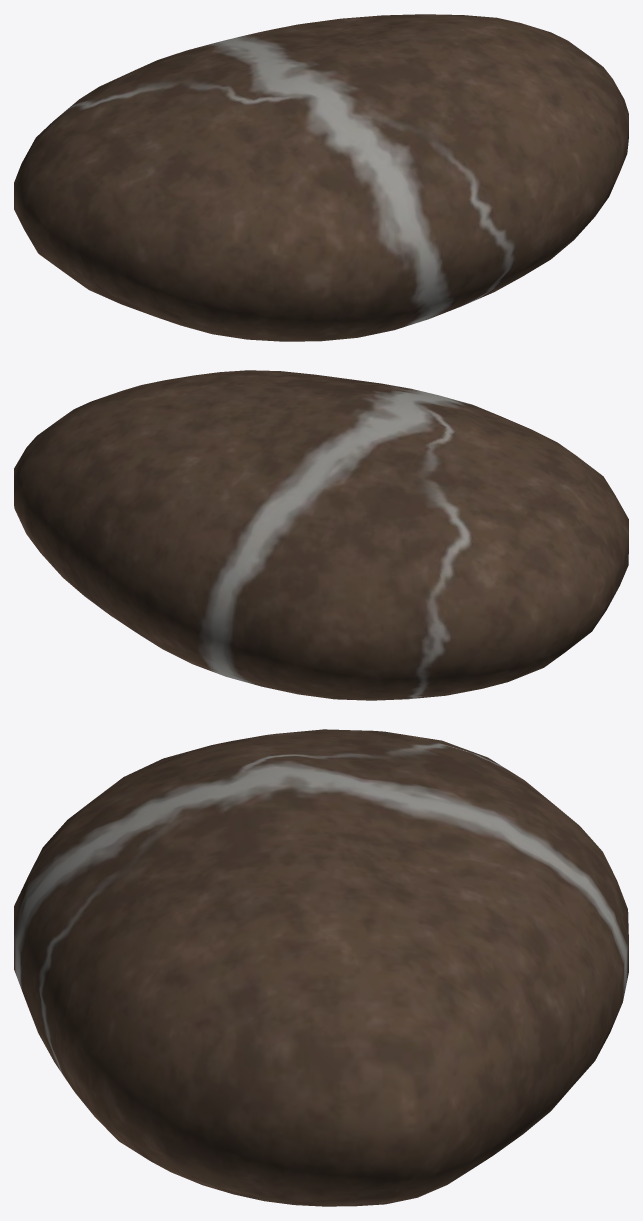
The model's file is quartz_cobble_02.glb.
3 views of the same model, one above another, from view 1: azimuth 30°, elevation 25°; view 2: azimuth 150°, elevation 25°; view 3: azimuth 270°, elevation 25° (orthographic). The views are drawn at different scales.
Visible parts, largest first — view 1: quartz_cobble_02; view 2: quartz_cobble_02; view 3: quartz_cobble_02.
Part boxes in pixels (x1,y1,x2,y2): quartz_cobble_02: (14,14,628,341); quartz_cobble_02: (14,370,628,700); quartz_cobble_02: (14,729,628,1206).
Size of the model in its own units: 0.0695 by 0.0287 by 0.0505.
Materials: 1 (1 with a texture image).
